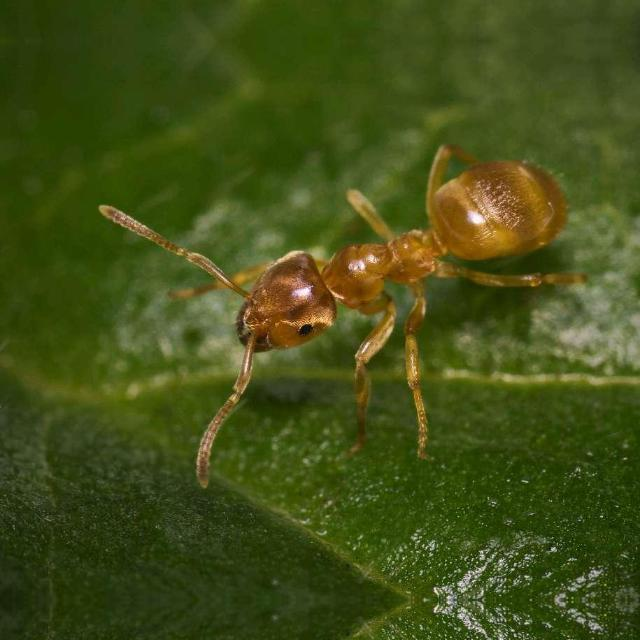Lasius: (102, 115, 626, 472)
